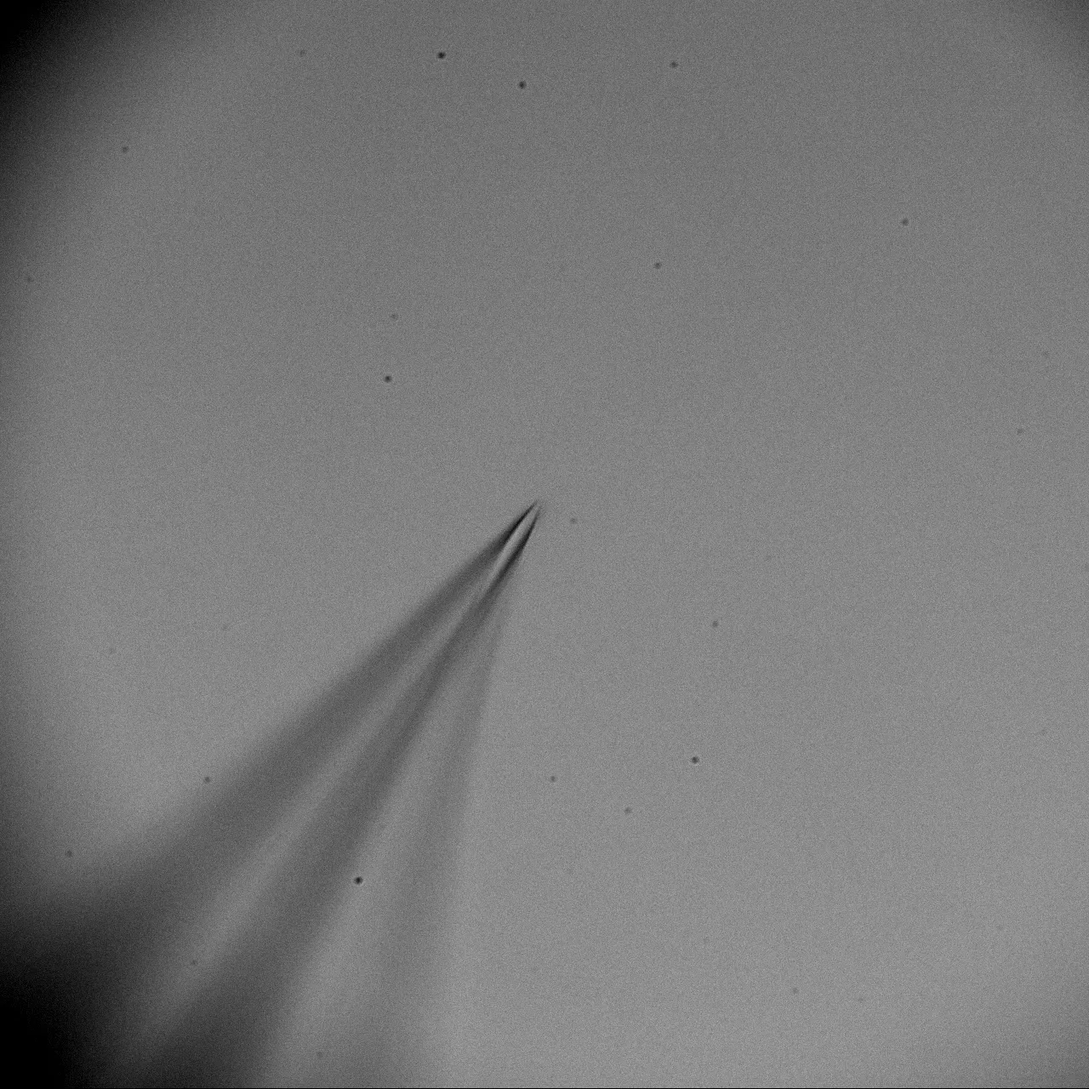tip: (463, 480, 548, 618)
